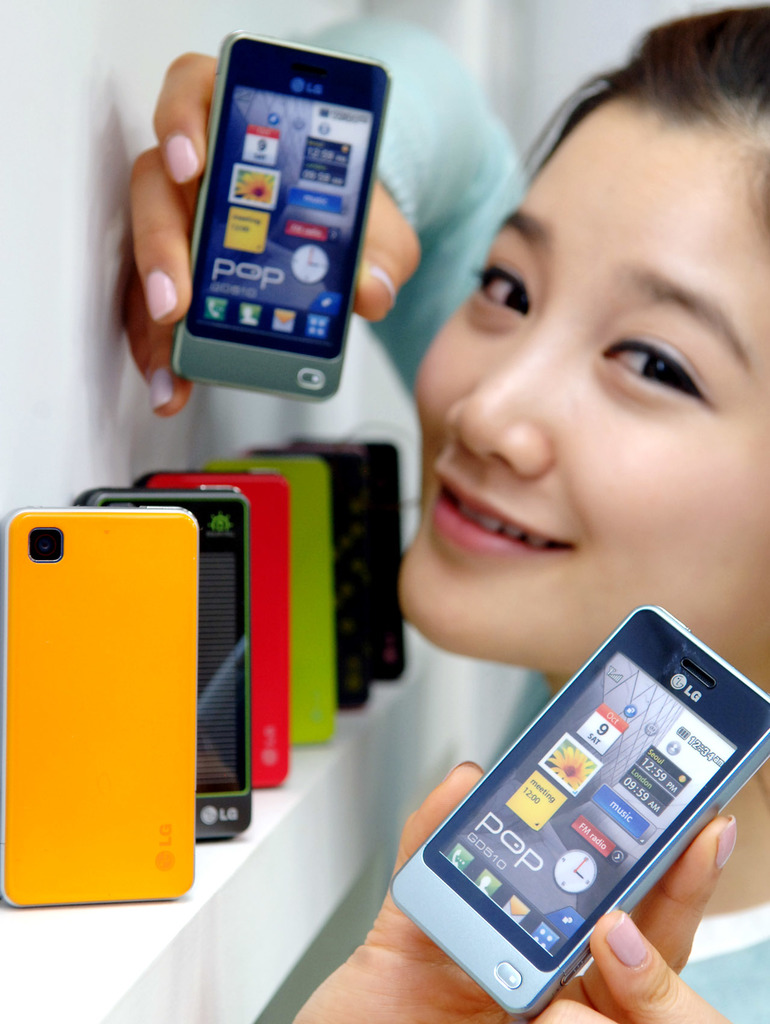Mobile-phone: (387, 598, 769, 1016), (159, 36, 405, 400), (0, 505, 199, 908), (71, 486, 254, 842), (137, 464, 294, 790), (205, 450, 340, 750)
